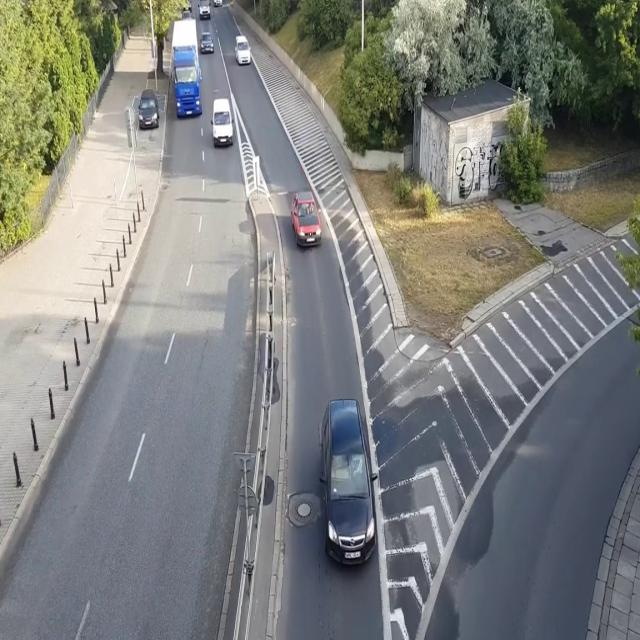car: (317, 396, 377, 570), (289, 189, 324, 249), (137, 88, 160, 134), (200, 29, 214, 56), (182, 0, 192, 10), (212, 0, 225, 7)
truck: (170, 18, 203, 119)
van: (210, 98, 234, 148), (232, 35, 252, 66), (197, 0, 211, 22)
